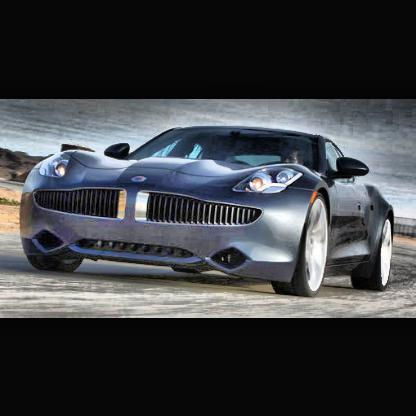Fisker Karma Sedan 2012: (21, 126, 395, 297)
